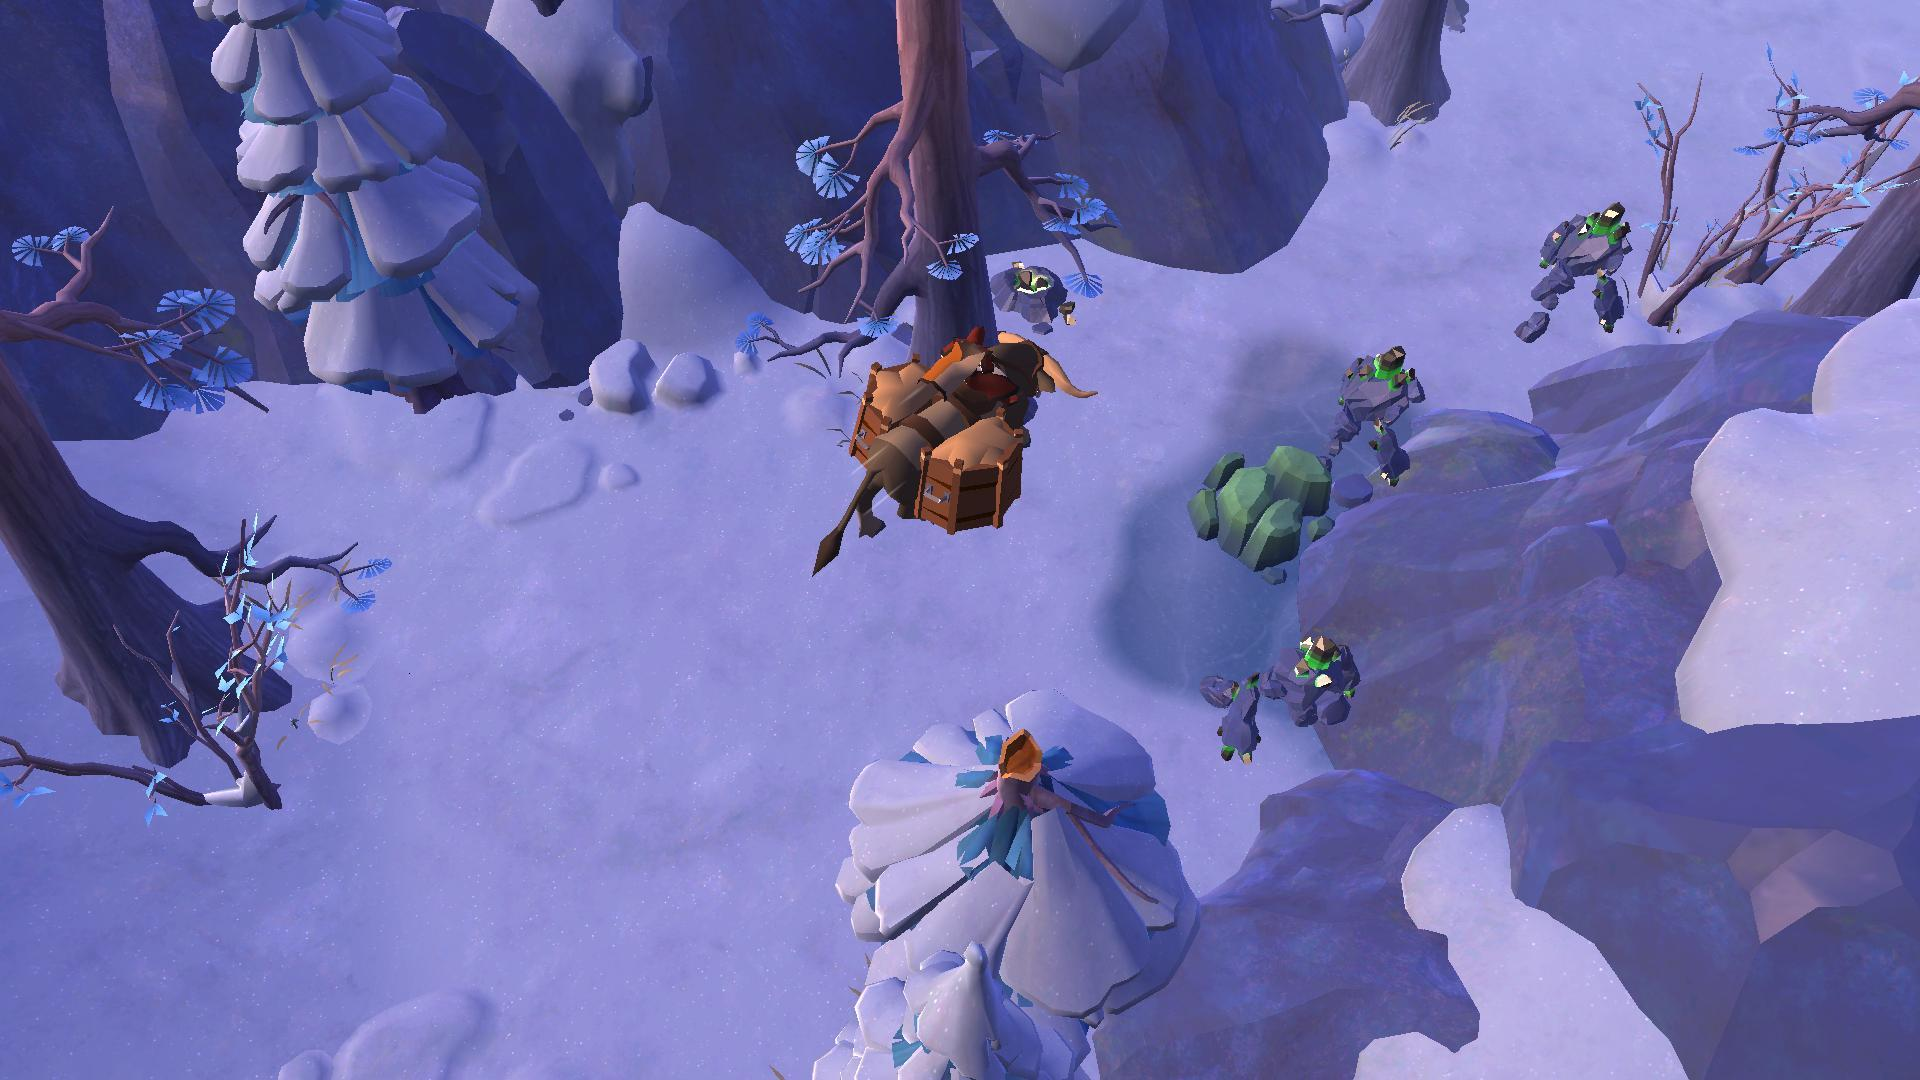rock_t3: (1179, 443, 1340, 564)
